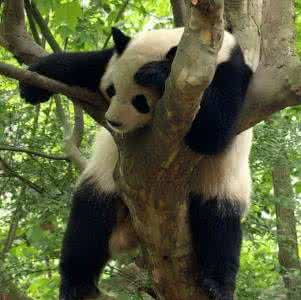panda: (15, 26, 252, 300)
